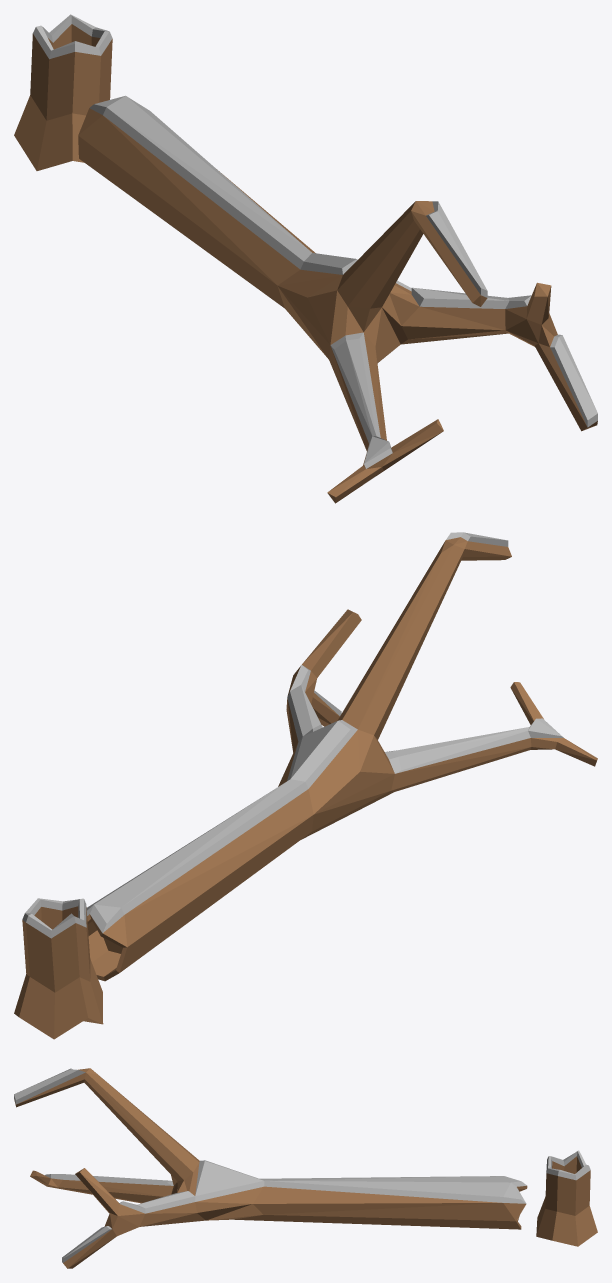
Rendered from Tree_5 Broken Winter.fbx.
3 views of the same model, one above another, from view 1: azimuth 30°, elevation 25°; view 2: azimuth 150°, elevation 25°; view 3: azimuth 270°, elevation 25° (orthographic). The views are drawn at different scales.
Parts seen in each view (by area): view 1: Tree5BrokenWinter_mesh; view 2: Tree5BrokenWinter_mesh; view 3: Tree5BrokenWinter_mesh.
Part boxes in pixels (x1,y1,x2,y2): Tree5BrokenWinter_mesh: (14, 14, 597, 503); Tree5BrokenWinter_mesh: (14, 532, 597, 1039); Tree5BrokenWinter_mesh: (14, 1068, 597, 1268).
Bounding box in the file's own units: 184 × 158 × 533.
